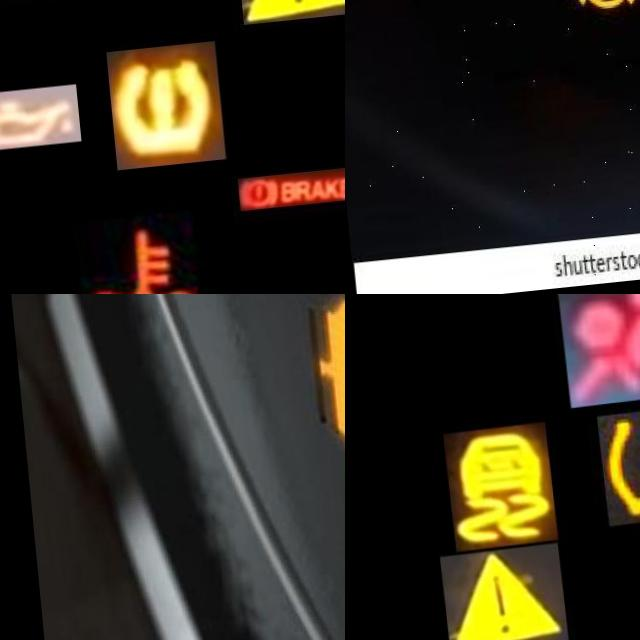Central Warning lamp: (433, 548, 560, 640), (232, 0, 345, 31)
Engine cooling system: (67, 215, 194, 294)
